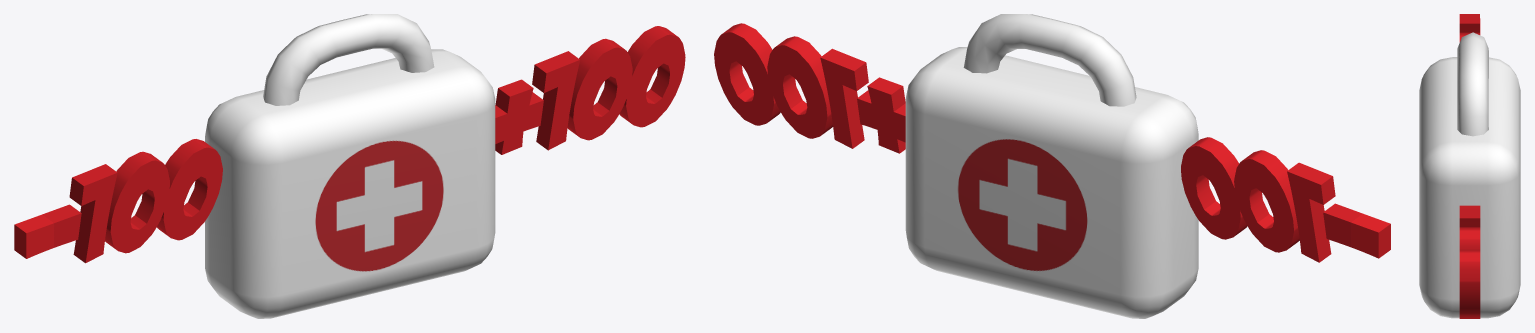
Rendered from suitecase.fbx.
3 renders of one model, left to right at view 1: azimuth 30°, elevation 25°; view 2: azimuth 150°, elevation 25°; view 3: azimuth 270°, elevation 25°, orthographic. The views are drawn at different scales.
Visible parts, largest first — view 1: suitecase1, plus_100, mines_100; view 2: suitecase1, plus_100, mines_100; view 3: suitecase1, plus_100, mines_100.
Part boxes in pixels (left/top/right/bottom): suitecase1: left=205, top=14, right=495, bottom=318; plus_100: left=495, top=26, right=685, bottom=154; mines_100: left=14, top=139, right=222, bottom=263; suitecase1: left=905, top=14, right=1198, bottom=318; plus_100: left=714, top=23, right=905, bottom=153; mines_100: left=1181, top=137, right=1390, bottom=262; suitecase1: left=1419, top=32, right=1520, bottom=318; plus_100: left=1459, top=205, right=1480, bottom=318; mines_100: left=1459, top=14, right=1480, bottom=41.
Bounding box in the file's own units: 12.23 × 4.67 × 1.89.
2 materials, 2 textured.
